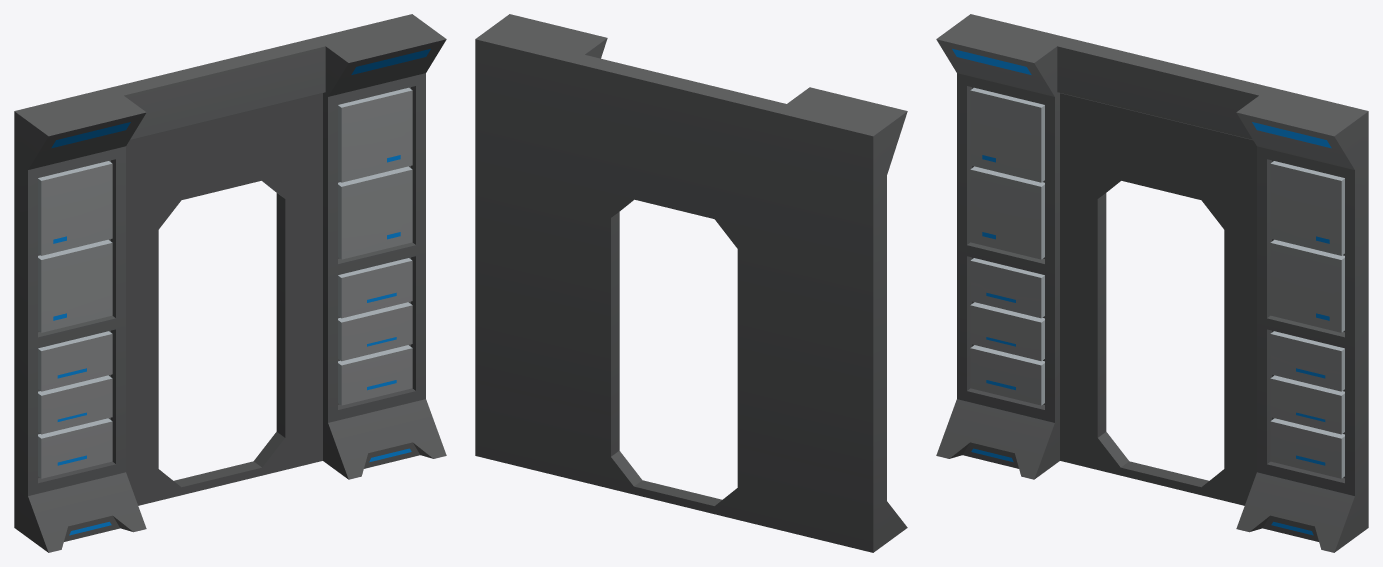
File: Wall_type_B_049.fbx
3 renders of one model, left to right at view 1: azimuth 30°, elevation 25°; view 2: azimuth 150°, elevation 25°; view 3: azimuth 330°, elevation 25°, orthographic.
Visible parts, largest first — view 1: Wall_type_B_049; view 2: Wall_type_B_049; view 3: Wall_type_B_049.
Boxes of the visible parts, bbox=[...] form: Wall_type_B_049: bbox=[14, 14, 446, 552]; Wall_type_B_049: bbox=[475, 14, 907, 552]; Wall_type_B_049: bbox=[936, 14, 1368, 552].
Bounding box in the file's own units: 400 × 60 × 400.
